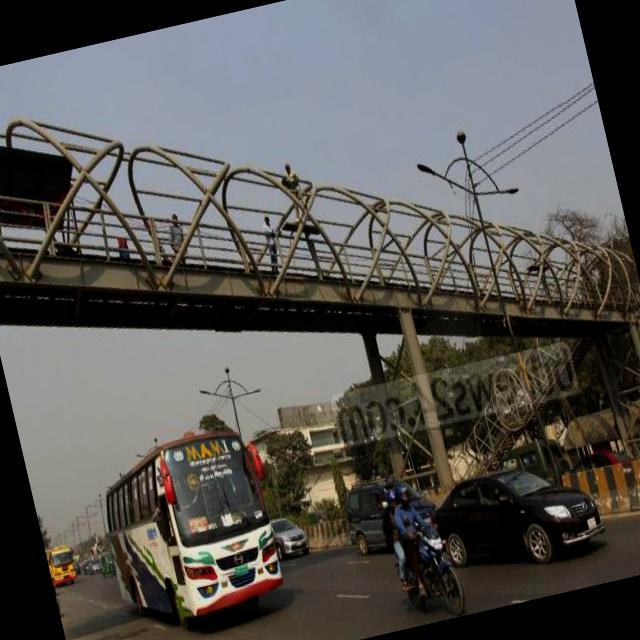bus: (89, 414, 292, 640), (46, 539, 84, 586)
car: (439, 446, 616, 586), (494, 426, 566, 466), (270, 504, 316, 566), (568, 440, 632, 469), (88, 551, 104, 573), (78, 552, 90, 568)
motorcycle: (384, 511, 466, 622), (99, 546, 118, 575)
truck: (336, 462, 441, 556)
